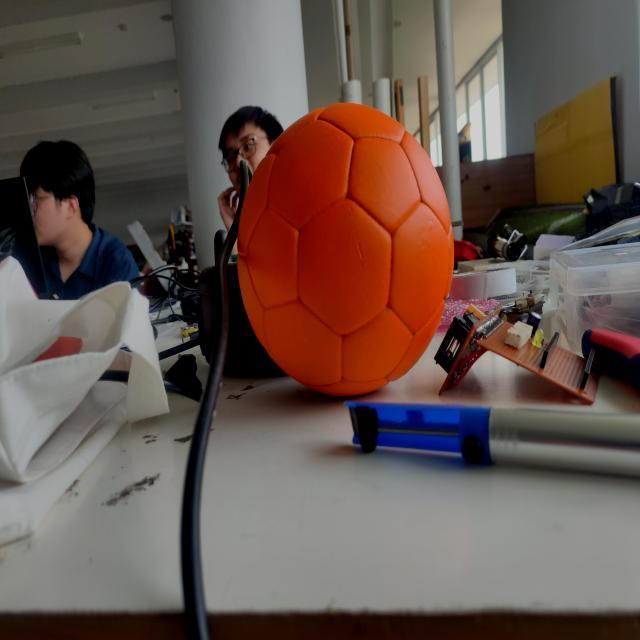bola: (238, 100, 472, 411)
